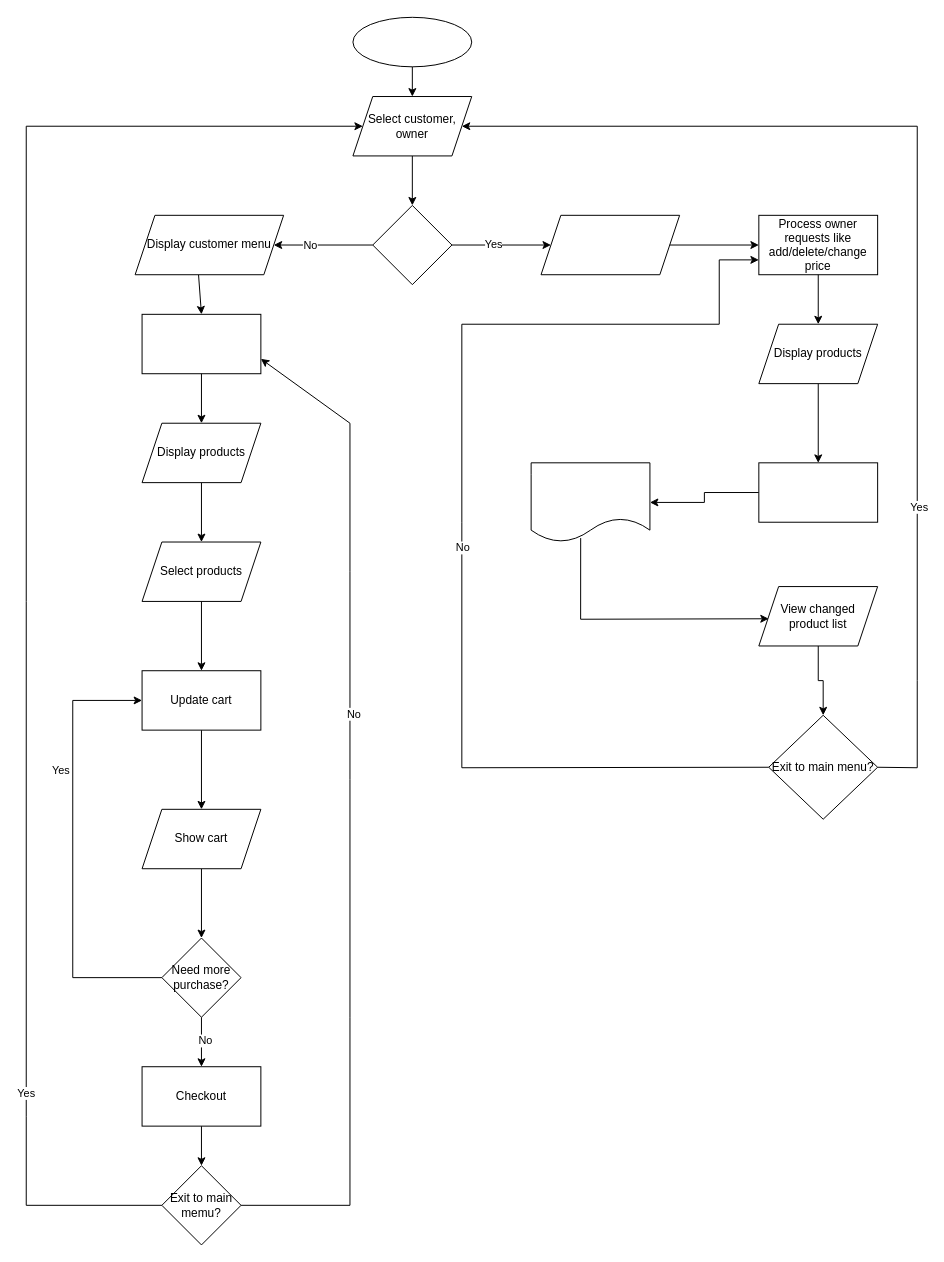
This 944x1262 diagram has some shape labels left out. Each missing label, with the centre of its shape:
"Change price/ Add or delete products" belongs at (818,492).
"Display owner menu" belongs at (610,244).
"Is customer?" belongs at (412,244).
"Process customer request like add/delete product to/from cart" belongs at (201,343).
"Start" belongs at (412,41).
"Update JSON product file" belongs at (590,502).
